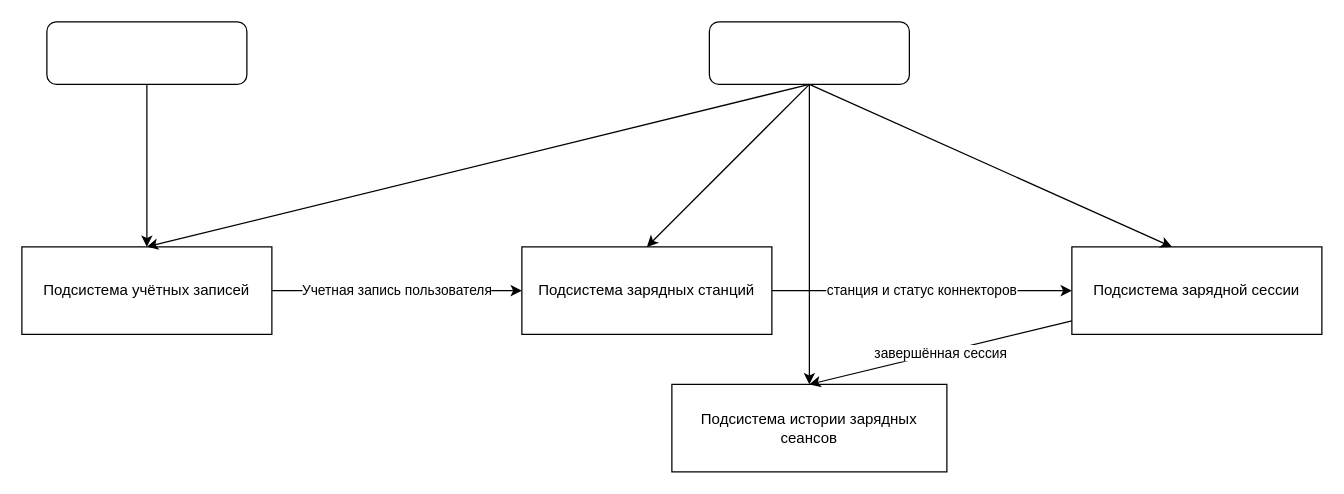
The diagram is 1344 pixels wide and 494 high, and some of its shapes have lost their labels. The shapes that lost their labels are listed below. From the top down, each one's box as (x1, y1, x2, y2) in pixels, then its label:
(46, 21, 247, 84): Администратор
(708, 21, 909, 84): Пользователь
